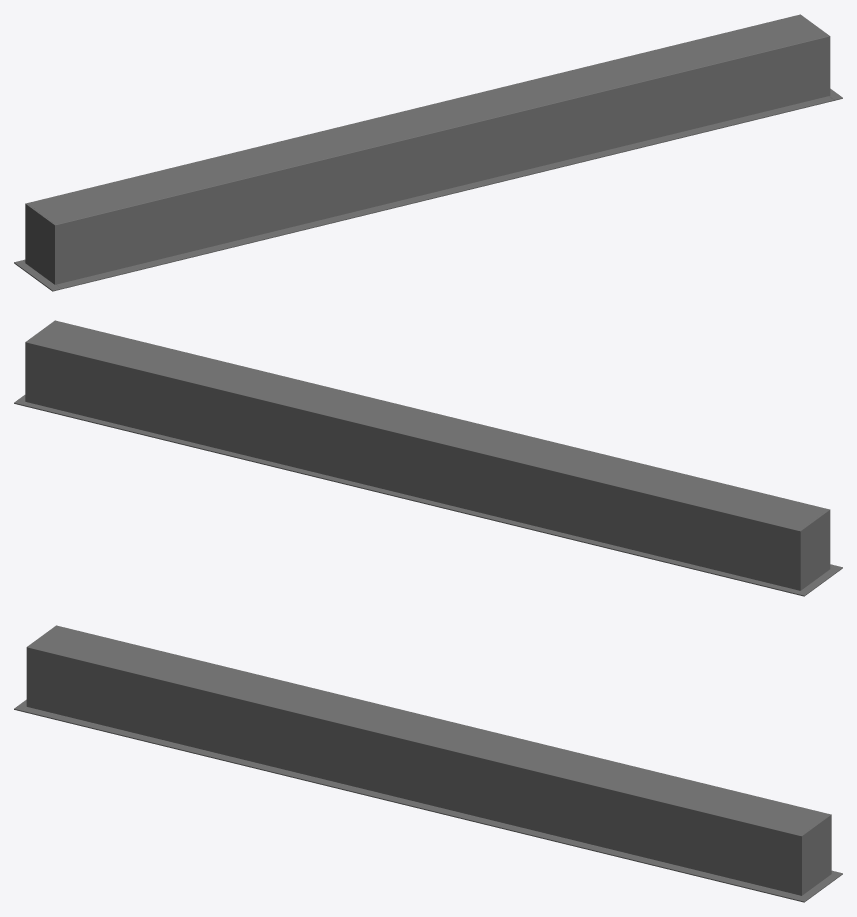
The model's file is A23DMOD_FBX.fbx.
3 views of the same model, one above another, from view 1: azimuth 30°, elevation 25°; view 2: azimuth 150°, elevation 25°; view 3: azimuth 330°, elevation 25° (orthographic).
Parts seen in each view (by area): view 1: A23DOBJ_001; view 2: A23DOBJ_001; view 3: A23DOBJ_001.
Boxes of the visible parts, left/top/right/bottom form: A23DOBJ_001: left=14, top=14, right=842, bottom=291; A23DOBJ_001: left=14, top=320, right=842, bottom=596; A23DOBJ_001: left=14, top=625, right=842, bottom=902.
Bounding box in the file's own units: 118 × 8.71 × 10.03.
2 materials, 2 textured.
